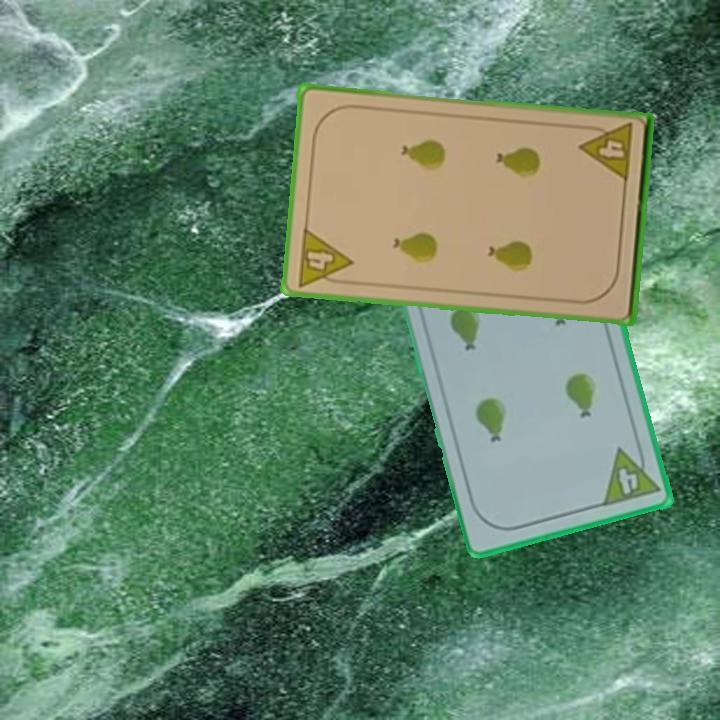4p: (599, 439, 663, 510), (294, 224, 355, 290), (577, 120, 636, 185)
